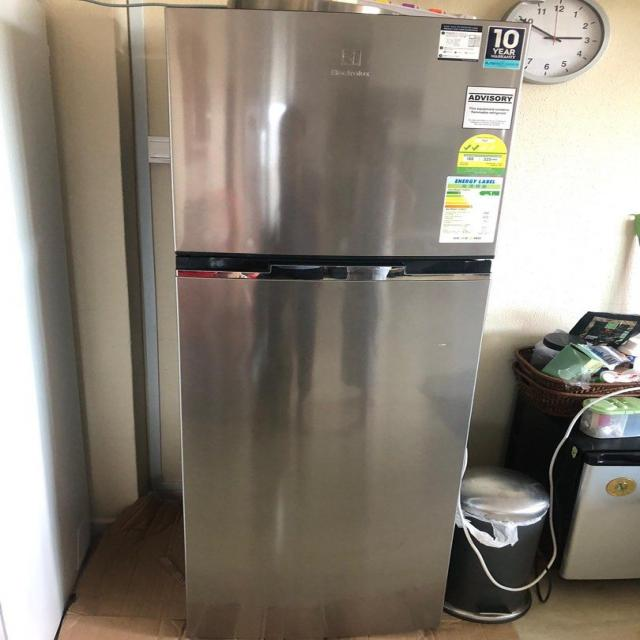refrigerator: (163, 4, 523, 640)
